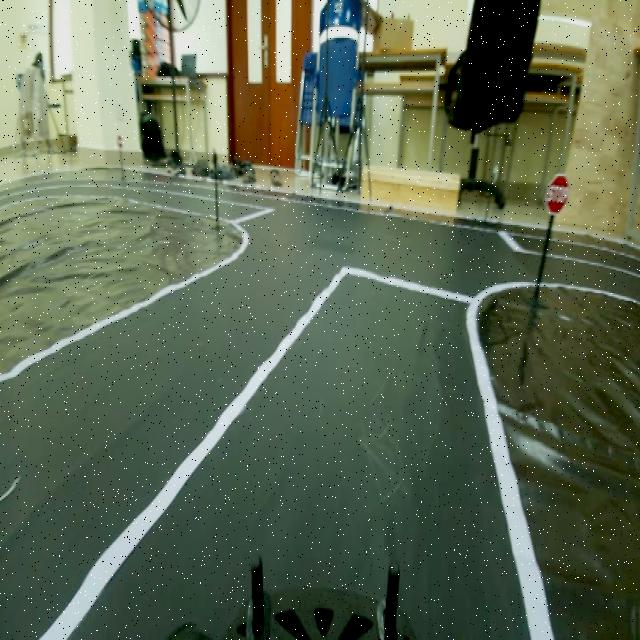stop: (540, 168, 570, 223)
